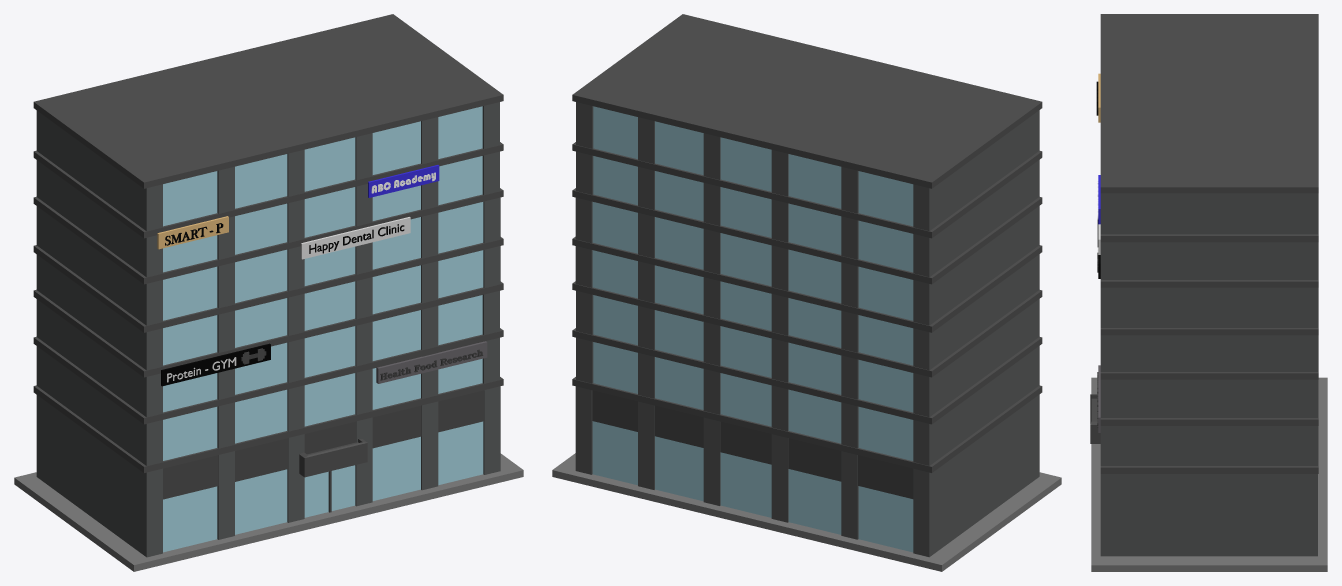
The model's file is GYM.fbx.
3 views of the same model, side by side, from view 1: azimuth 30°, elevation 25°; view 2: azimuth 150°, elevation 25°; view 3: azimuth 270°, elevation 25° (orthographic).
Visible parts, largest first — view 1: Cube.004, Cube.001, Cube, Cube.008, Cube.013, Cube.025, Cube.020, Cube.007, Cube.035, Cube.036, Cube.003, Cube.037 (+29 smaller); view 2: Cube.004, Cube.001, Cube, Cube.008, Cube.013, Cube.025, Cube.020, Cube.035, Cube.007, Cube.037, Cube.038, Cube.036 (+23 smaller); view 3: Cube.004, Cube.006, Cube.026, Cube.014, Cube.019, Cube.007, Cube.038, Cube.003, Cube.037, Cube.036, Cube.005, Cube.002 (+1 smaller).
Part boxes in pixels (x1,y1,x2,y2): Cube.004: (33,14,503,188); Cube.001: (163,106,483,365); Cube: (163,295,483,552); Cube.008: (36,395,162,557); Cube.013: (36,299,162,465); Cube.025: (36,110,162,277); Cube.020: (36,206,162,370); Cube.007: (14,453,523,571); Cube.035: (163,390,483,499); Cube.036: (33,328,503,424); Cube.003: (33,377,503,472); Cube.037: (33,237,503,332); Cube.004: (572,14,1042,188); Cube.001: (592,106,913,365); Cube: (592,295,913,552); Cube.008: (913,394,1039,557); Cube.013: (913,299,1039,465); Cube.025: (913,110,1039,277); Cube.020: (913,206,1039,370); Cube.035: (592,390,913,498); Cube.007: (552,453,1061,571); Cube.037: (572,236,1042,332); Cube.038: (572,142,1042,238); Cube.036: (572,328,1042,424); Cube.004: (1100,14,1318,193); Cube.006: (1100,474,1317,556); Cube.026: (1100,193,1317,279); Cube.014: (1100,379,1317,465); Cube.019: (1100,287,1317,371); Cube.007: (1091,377,1327,571); Cube.038: (1100,193,1318,242); Cube.003: (1100,426,1318,473); Cube.037: (1100,287,1318,335); Cube.036: (1100,379,1318,425); Cube.005: (1100,242,1318,287); Cube.002: (1100,335,1318,379).
Bounding box in the file's own units: 4790 × 4491 × 2560.
